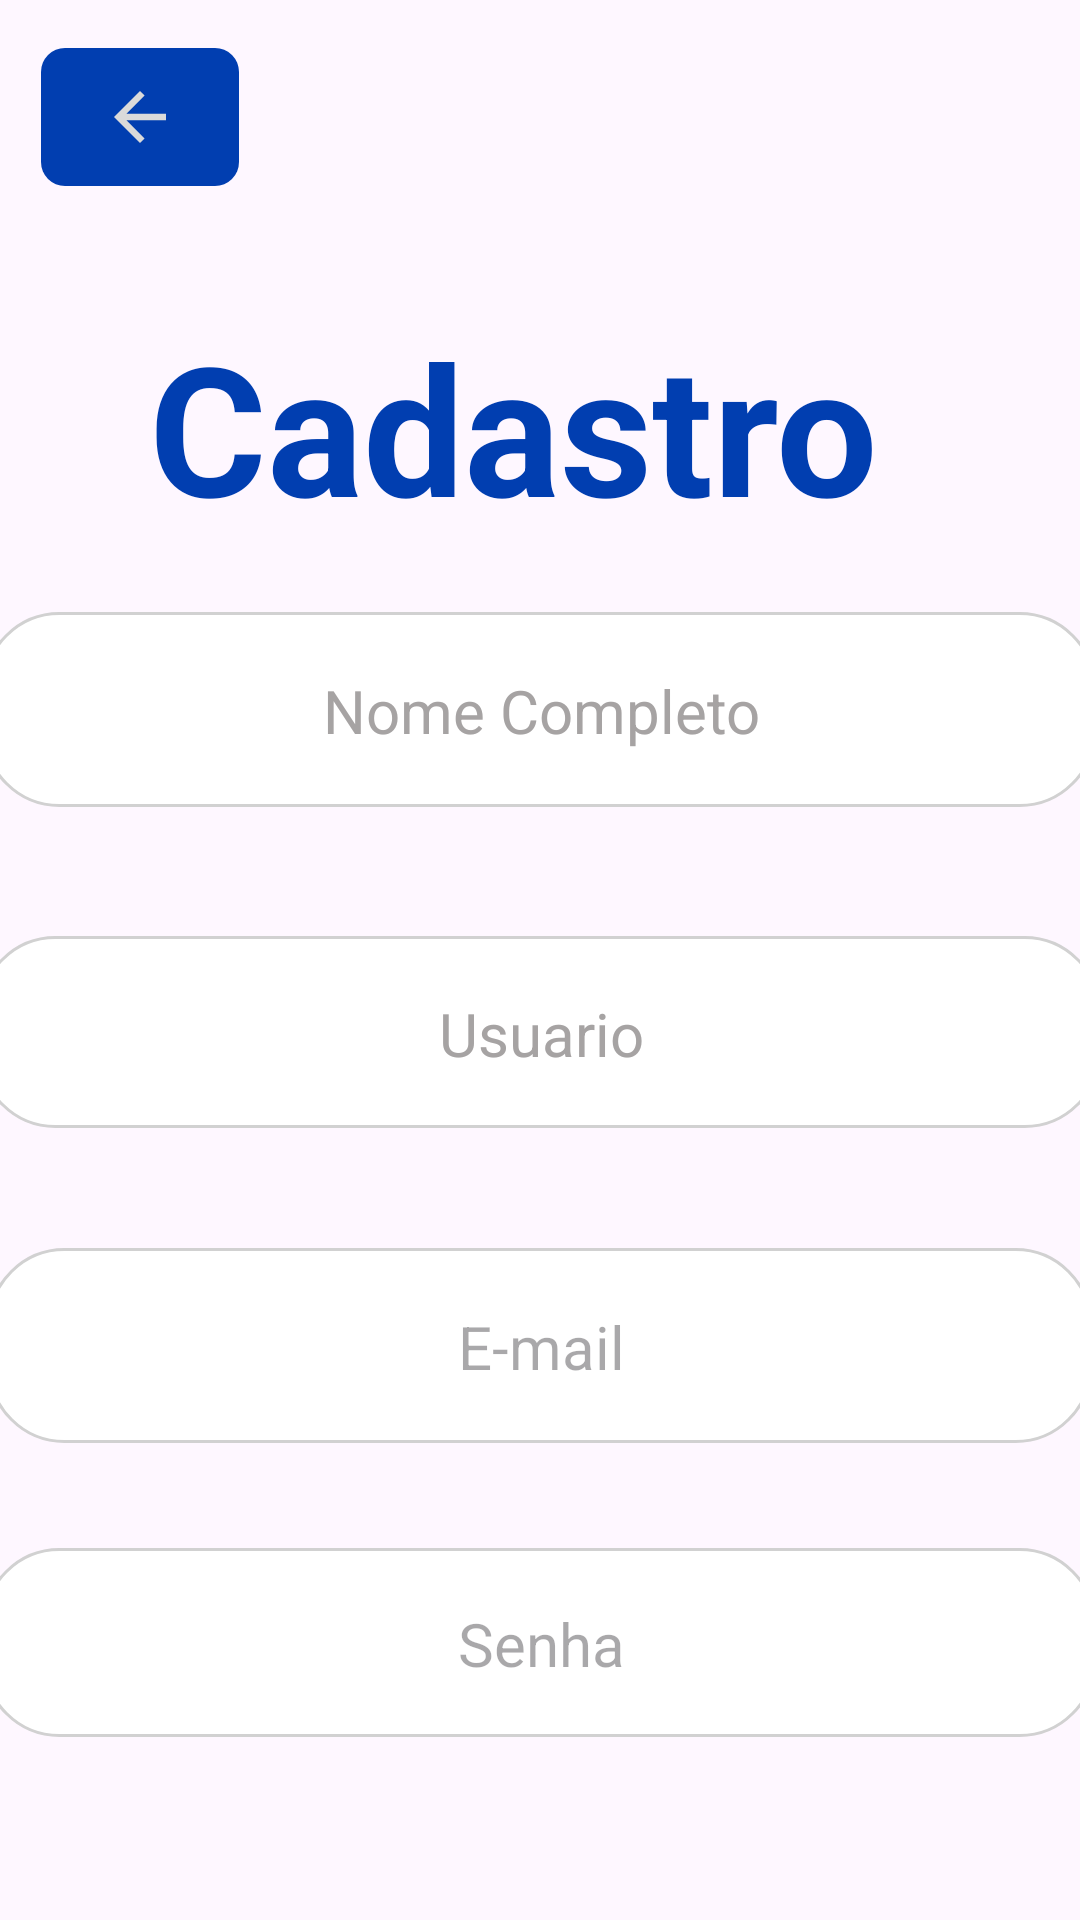

Icon click points for this 1080 × 1920 phone screenshot, format (x=x, y=y):
arrow back: (x=140, y=117)
